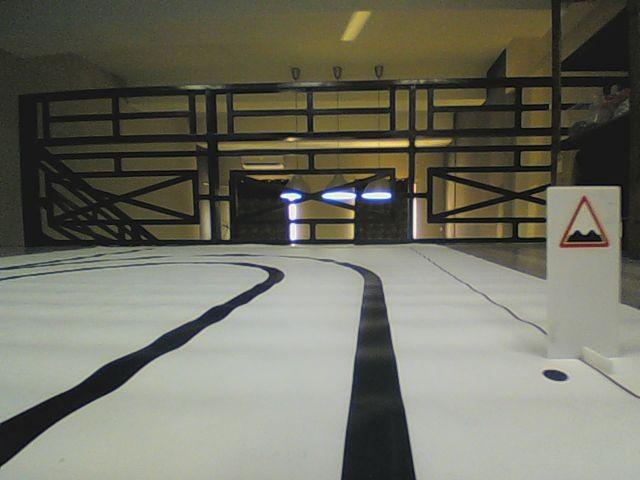Nerov: (559, 194, 611, 249)
